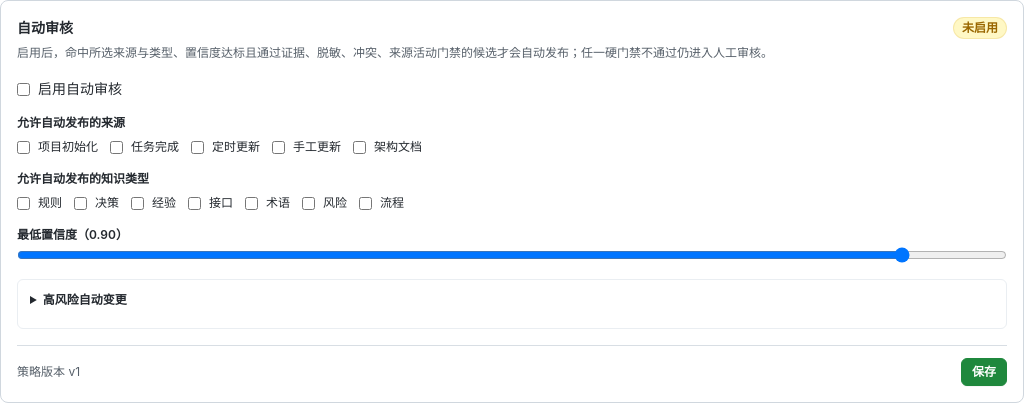
Test: KnowledgePolicySettings › refreshes to the latest policy version after a concurrent update
This screenshot has width=1024, height=420.
Click the button "保存" at (984, 372), box [961, 358, 1007, 386]
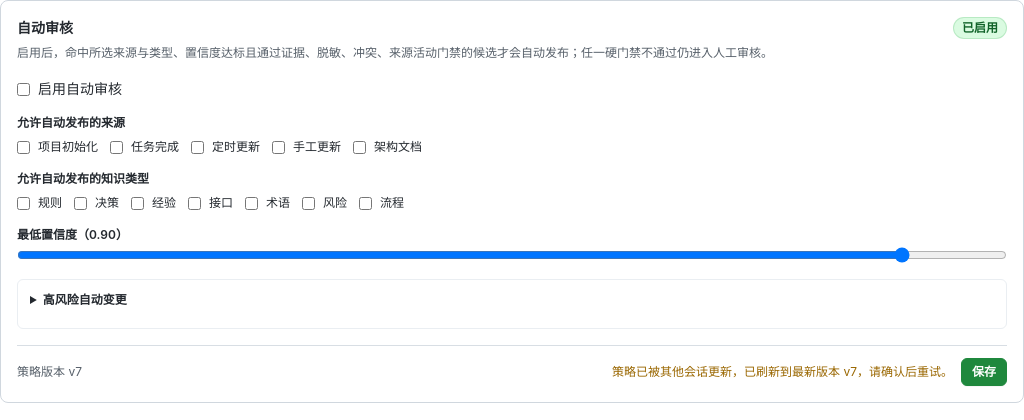
Expected: the checkbox labelled "启用自动审核" is not checked, [17, 82, 30, 96]
Expected: the text "策略版本 v7" is shown, [17, 364, 82, 380]
Expected: the message shows "已刷新到最新版本 v7", [612, 364, 953, 379]
